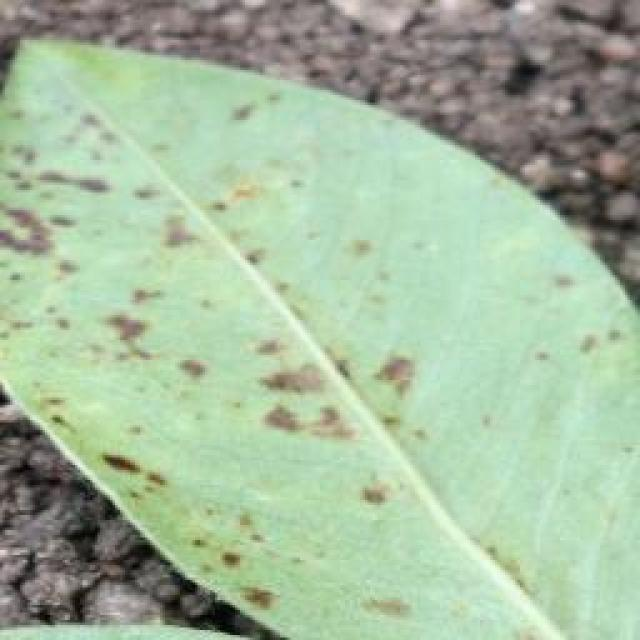Whitefly: (7, 56, 576, 630)
